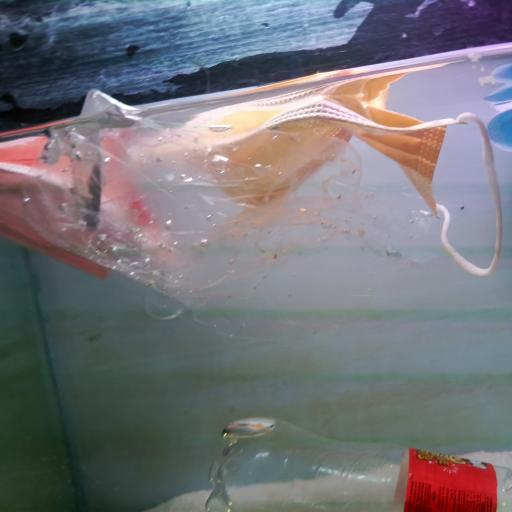mask: (168, 95, 512, 277), (0, 129, 164, 290)
plastic_bag: (52, 94, 454, 330)
plastic_bottle: (208, 413, 512, 512)
